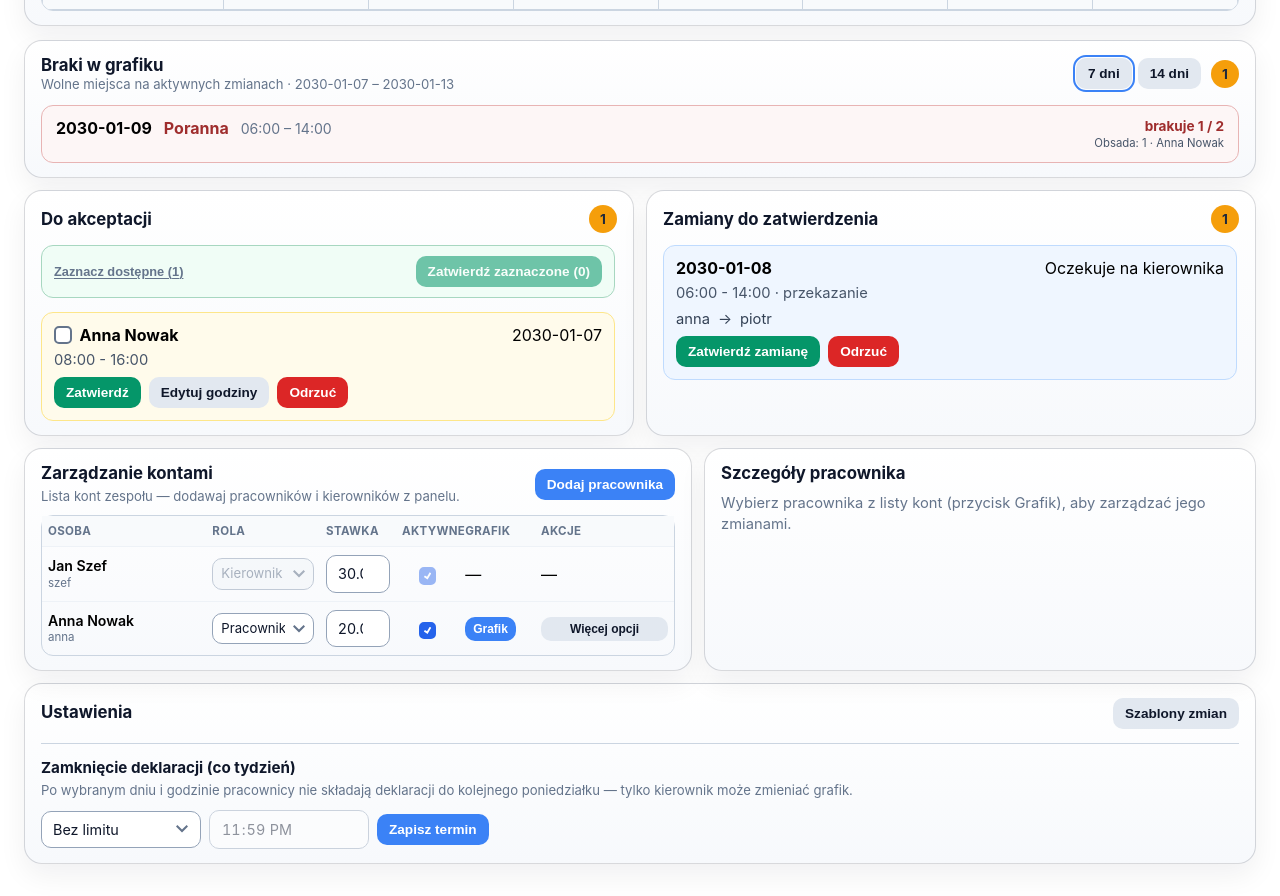
Test: settings: deadline and shift templates › clearing the declaration deadline
The image size is (1280, 896).
(page scrolled)
Expected: the text "Anna Nowak" below "Do akceptacji" is shown, 80,325 -> 178,345
Select "Sobota" in the dropdown named "Dzień tygodnia zamknięcia" at (121, 829), box 41,811 -> 201,848
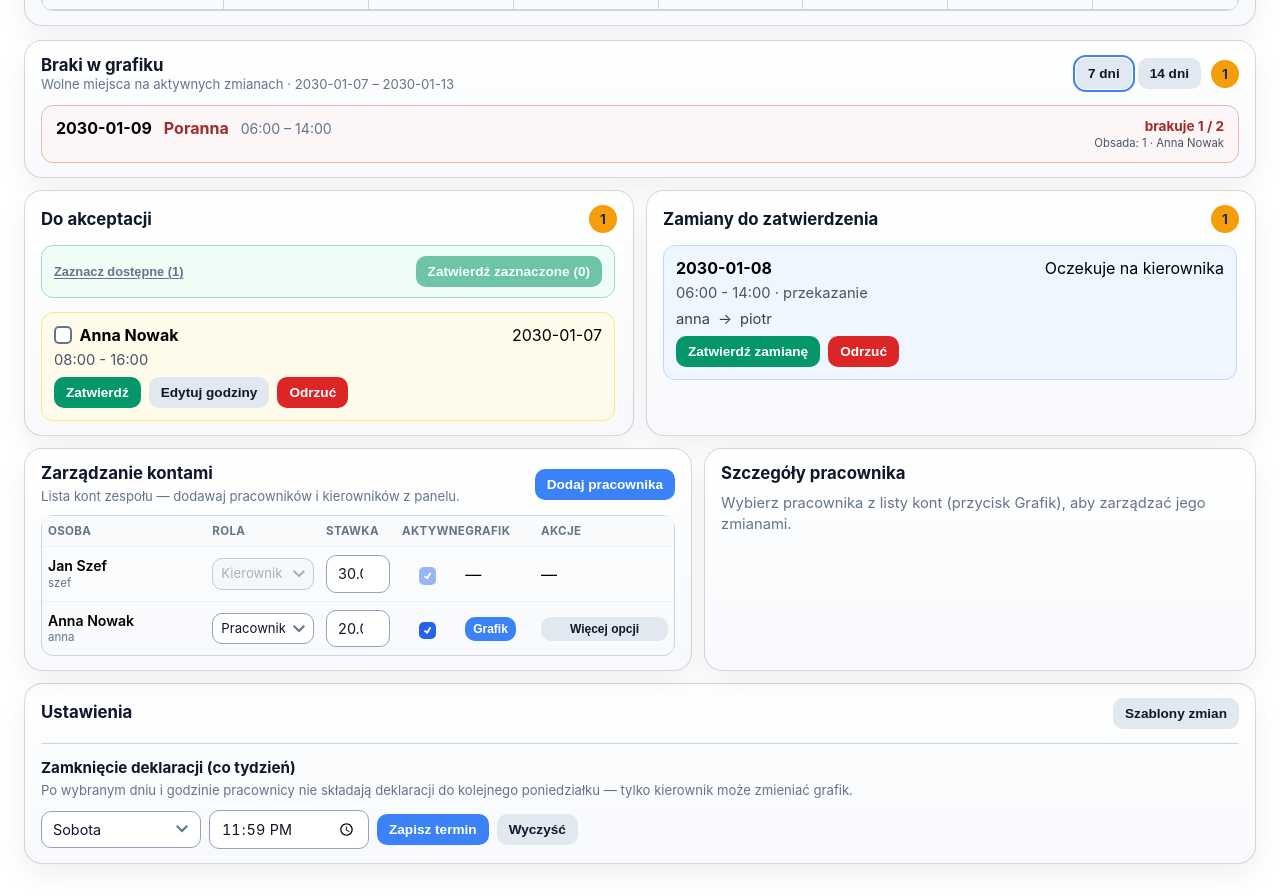
Click the button "Wyczyść" at (537, 829), box 497,814 -> 578,845
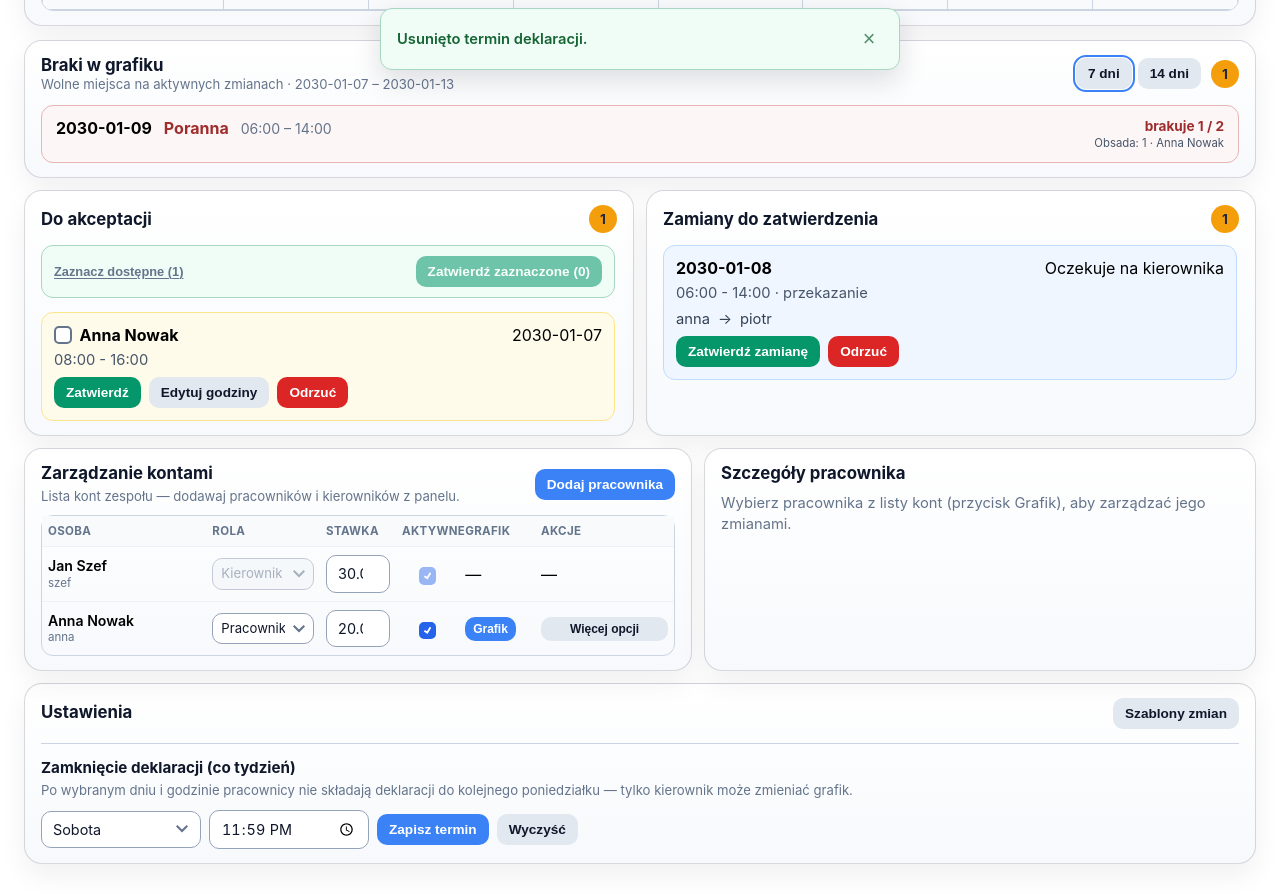
Expected: the text "Usunięto termin deklaracji." is shown, 397,30 -> 588,48
